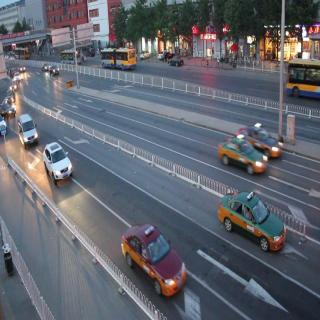BigCar: (287, 54, 320, 100), (100, 47, 139, 72), (59, 47, 84, 67)
Car: (118, 222, 194, 296), (218, 190, 290, 249), (217, 134, 267, 177), (41, 138, 74, 185), (18, 112, 39, 151), (0, 98, 16, 120), (169, 56, 185, 69), (50, 64, 59, 76), (41, 61, 49, 74)
